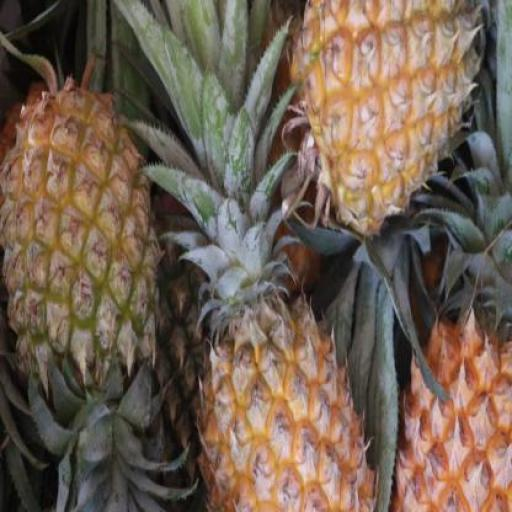------------------------------: (0, 82, 156, 376)
Pineapple - v8 v1: (286, 0, 484, 247), (186, 291, 375, 512), (390, 300, 512, 511)
